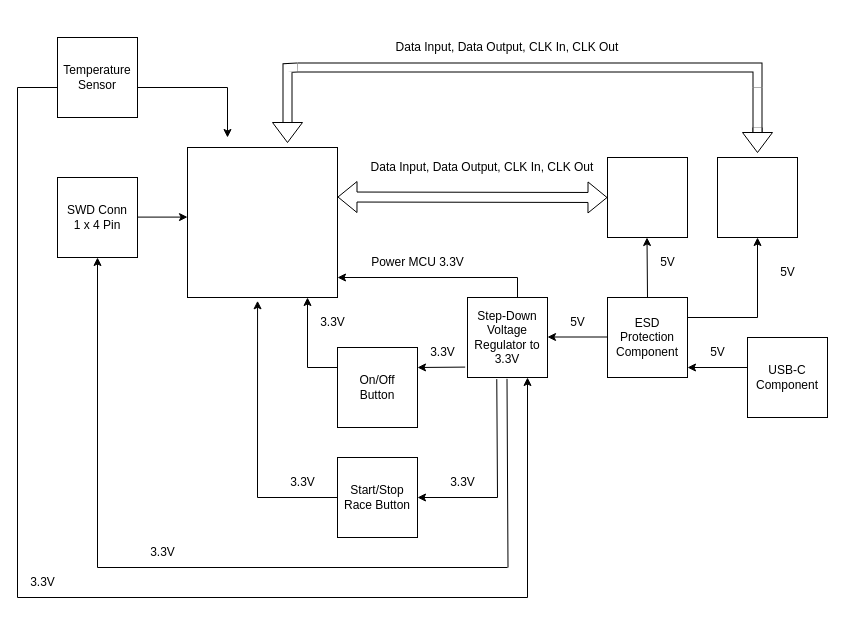
This 845x623 diagram has some shape labels left out. The shapes that lost their labels are listed below. From the top down, each one's box as (x1, y1, x2, y2) in pixels, then its label:
(606, 156, 688, 238): RGB LEDS X 124
(716, 156, 798, 238): Countdown Timer RGB LEDS x5
(186, 146, 338, 298): ESP32-C3-MINI-1
